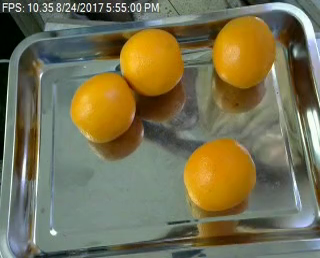Orange: (183, 139, 258, 211), (211, 15, 279, 88), (68, 73, 135, 143), (119, 28, 184, 95)
